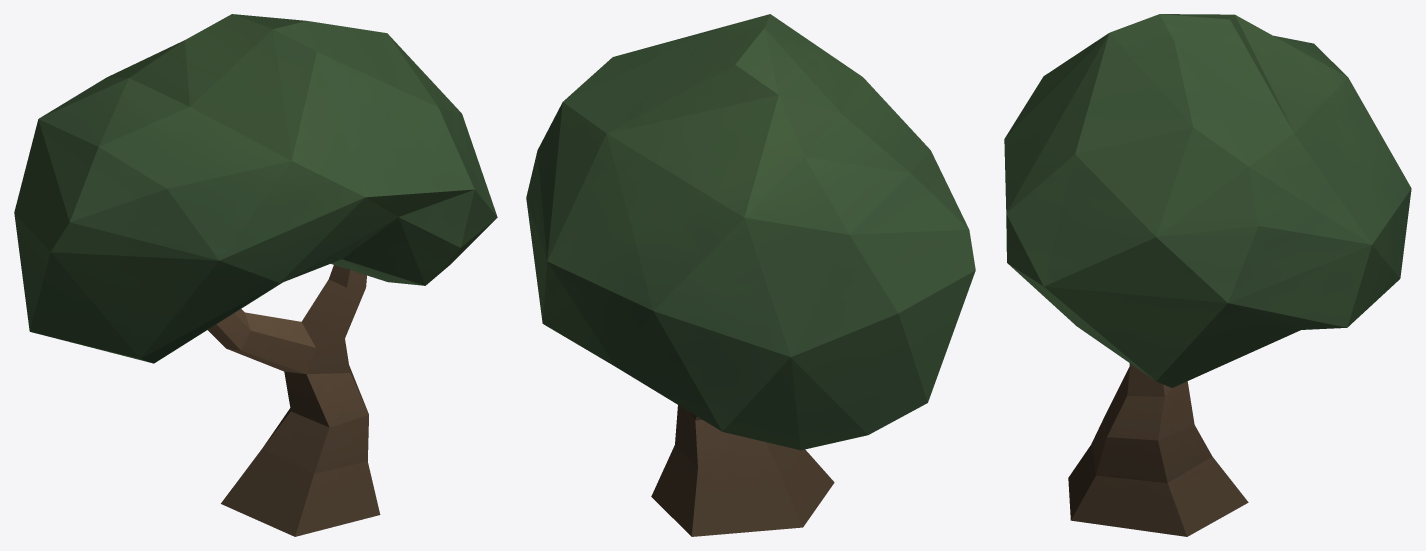
File: Tree_oak.obj
3 views of the same model, side by side, from view 1: azimuth 30°, elevation 25°; view 2: azimuth 150°, elevation 25°; view 3: azimuth 270°, elevation 25° (orthographic). The views are drawn at different scales.
Visible parts, largest first — view 1: Tree_oak; view 2: Tree_oak; view 3: Tree_oak.
Boxes of the visible parts, <box> form: Tree_oak: <box>14,14,497,536</box>; Tree_oak: <box>526,14,975,536</box>; Tree_oak: <box>1004,14,1411,536</box>.
Size of the model in its own units: 8.97 by 9.77 by 7.58.
